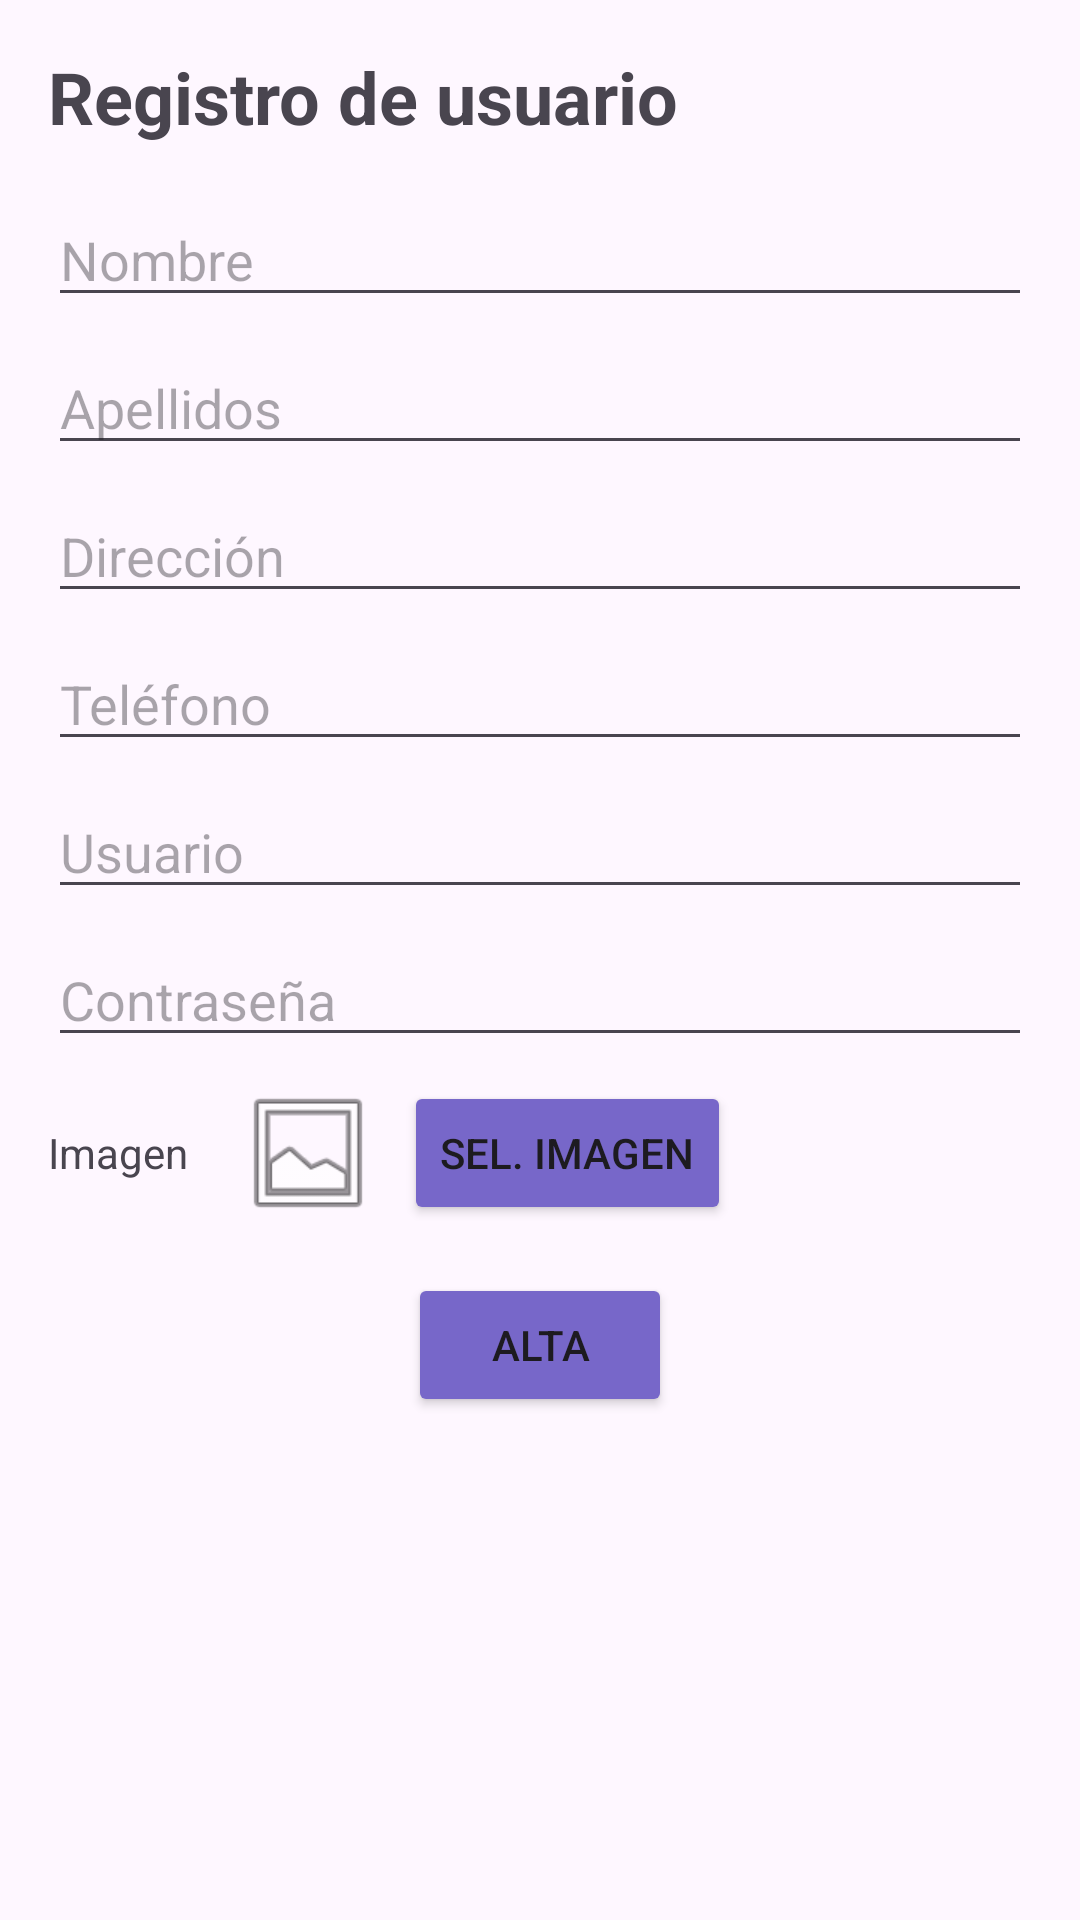

Locate icon controls on the screen. Image size 1080*1920, boxes as (x1, y1, x2, y2).
gallery: (254, 1099, 362, 1207)
